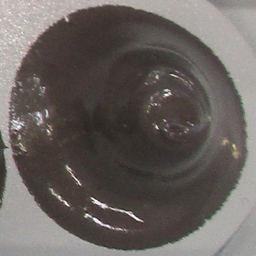perfect: (8, 3, 251, 251)
